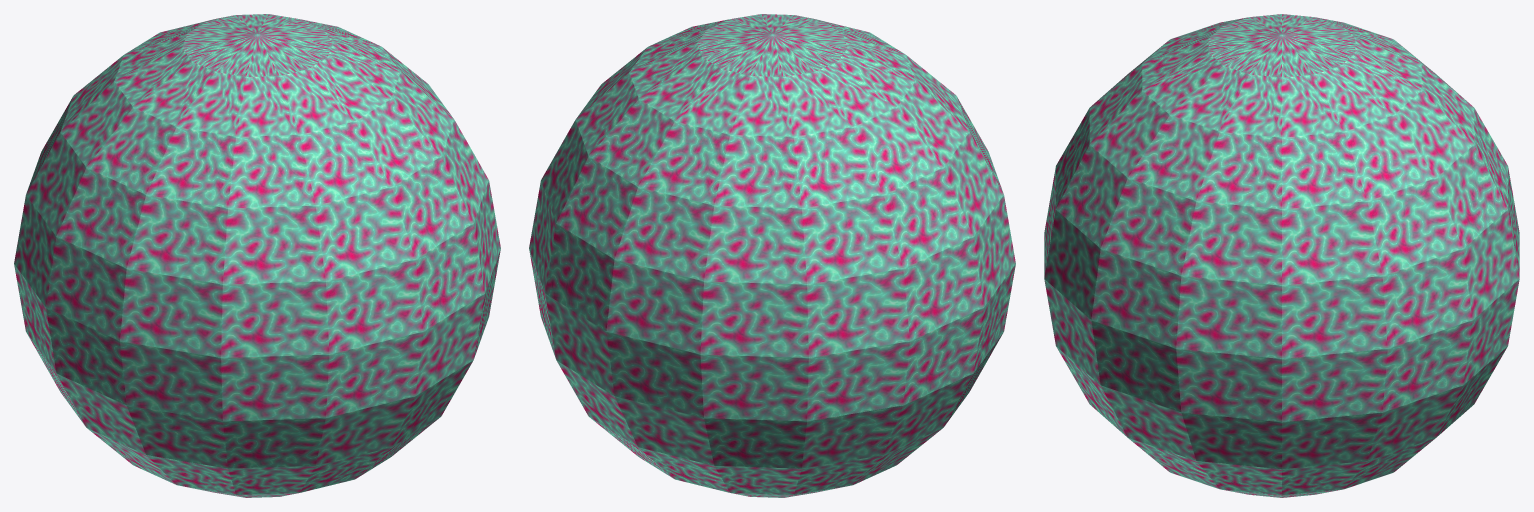
3 renders of one model, left to right at view 1: azimuth 30°, elevation 25°; view 2: azimuth 150°, elevation 25°; view 3: azimuth 270°, elevation 25°, orthographic.
Visible parts, largest first — view 1: SphereInner; view 2: SphereInner; view 3: SphereInner.
Boxes of the visible parts, x1,y1,x2,y2 form: SphereInner: [14, 14, 500, 497]; SphereInner: [529, 14, 1015, 497]; SphereInner: [1044, 14, 1519, 497].
Size of the model in its own units: 2 by 2 by 1.95.
